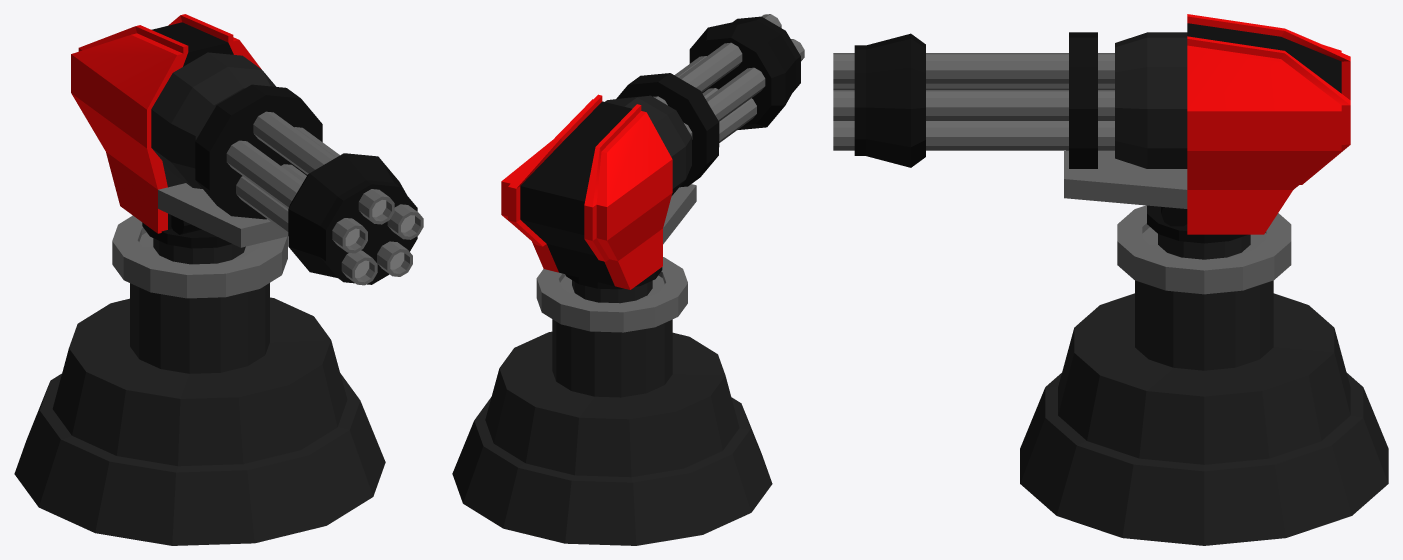
The model's file is Robot_Ground_Defence.FBX.
The picture shows the model from 3 angles, left to right: view 1: azimuth 30°, elevation 25°; view 2: azimuth 150°, elevation 25°; view 3: azimuth 270°, elevation 25°; orthographic projection. The views are drawn at different scales.
Visible parts, largest first — view 1: Base, Turret; view 2: Base, Turret; view 3: Base, Turret.
Part boxes in pixels (box(x1,y1,x2,y2)): Base: box(14, 215, 385, 545); Turret: box(71, 14, 423, 285); Base: box(452, 257, 772, 545); Turret: box(501, 14, 804, 289); Base: box(1020, 205, 1388, 545); Turret: box(833, 14, 1350, 234).
Bounding box in the file's own units: 102 × 131 × 150.
